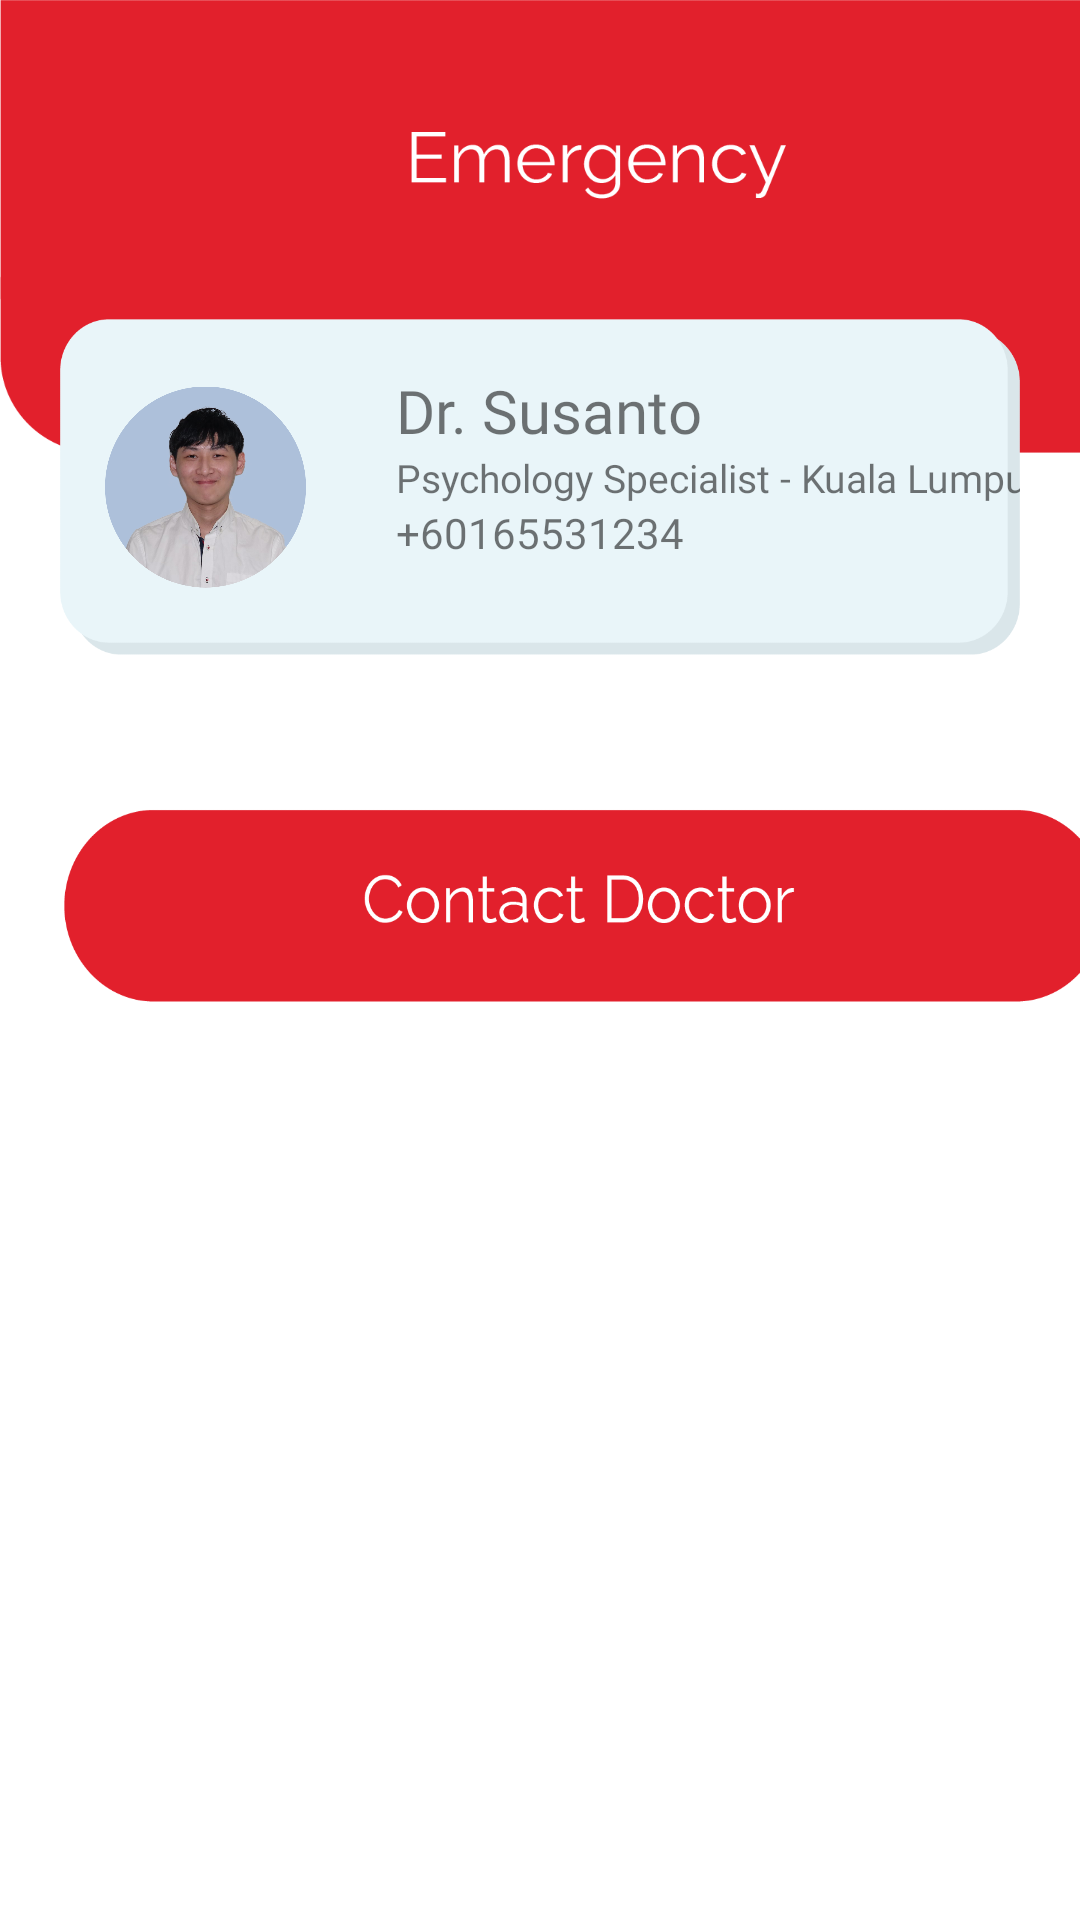

Named icons in this screenshot (1080 × 1920) and their centers, (x=x, y=y):
profilepic: (x=205, y=487)
